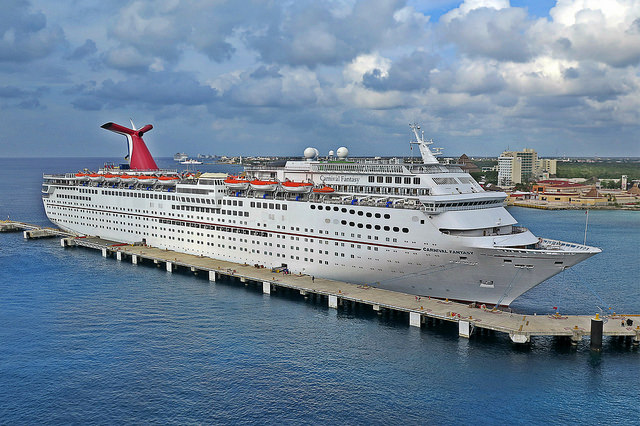cruise_ship: (41, 114, 604, 306)
